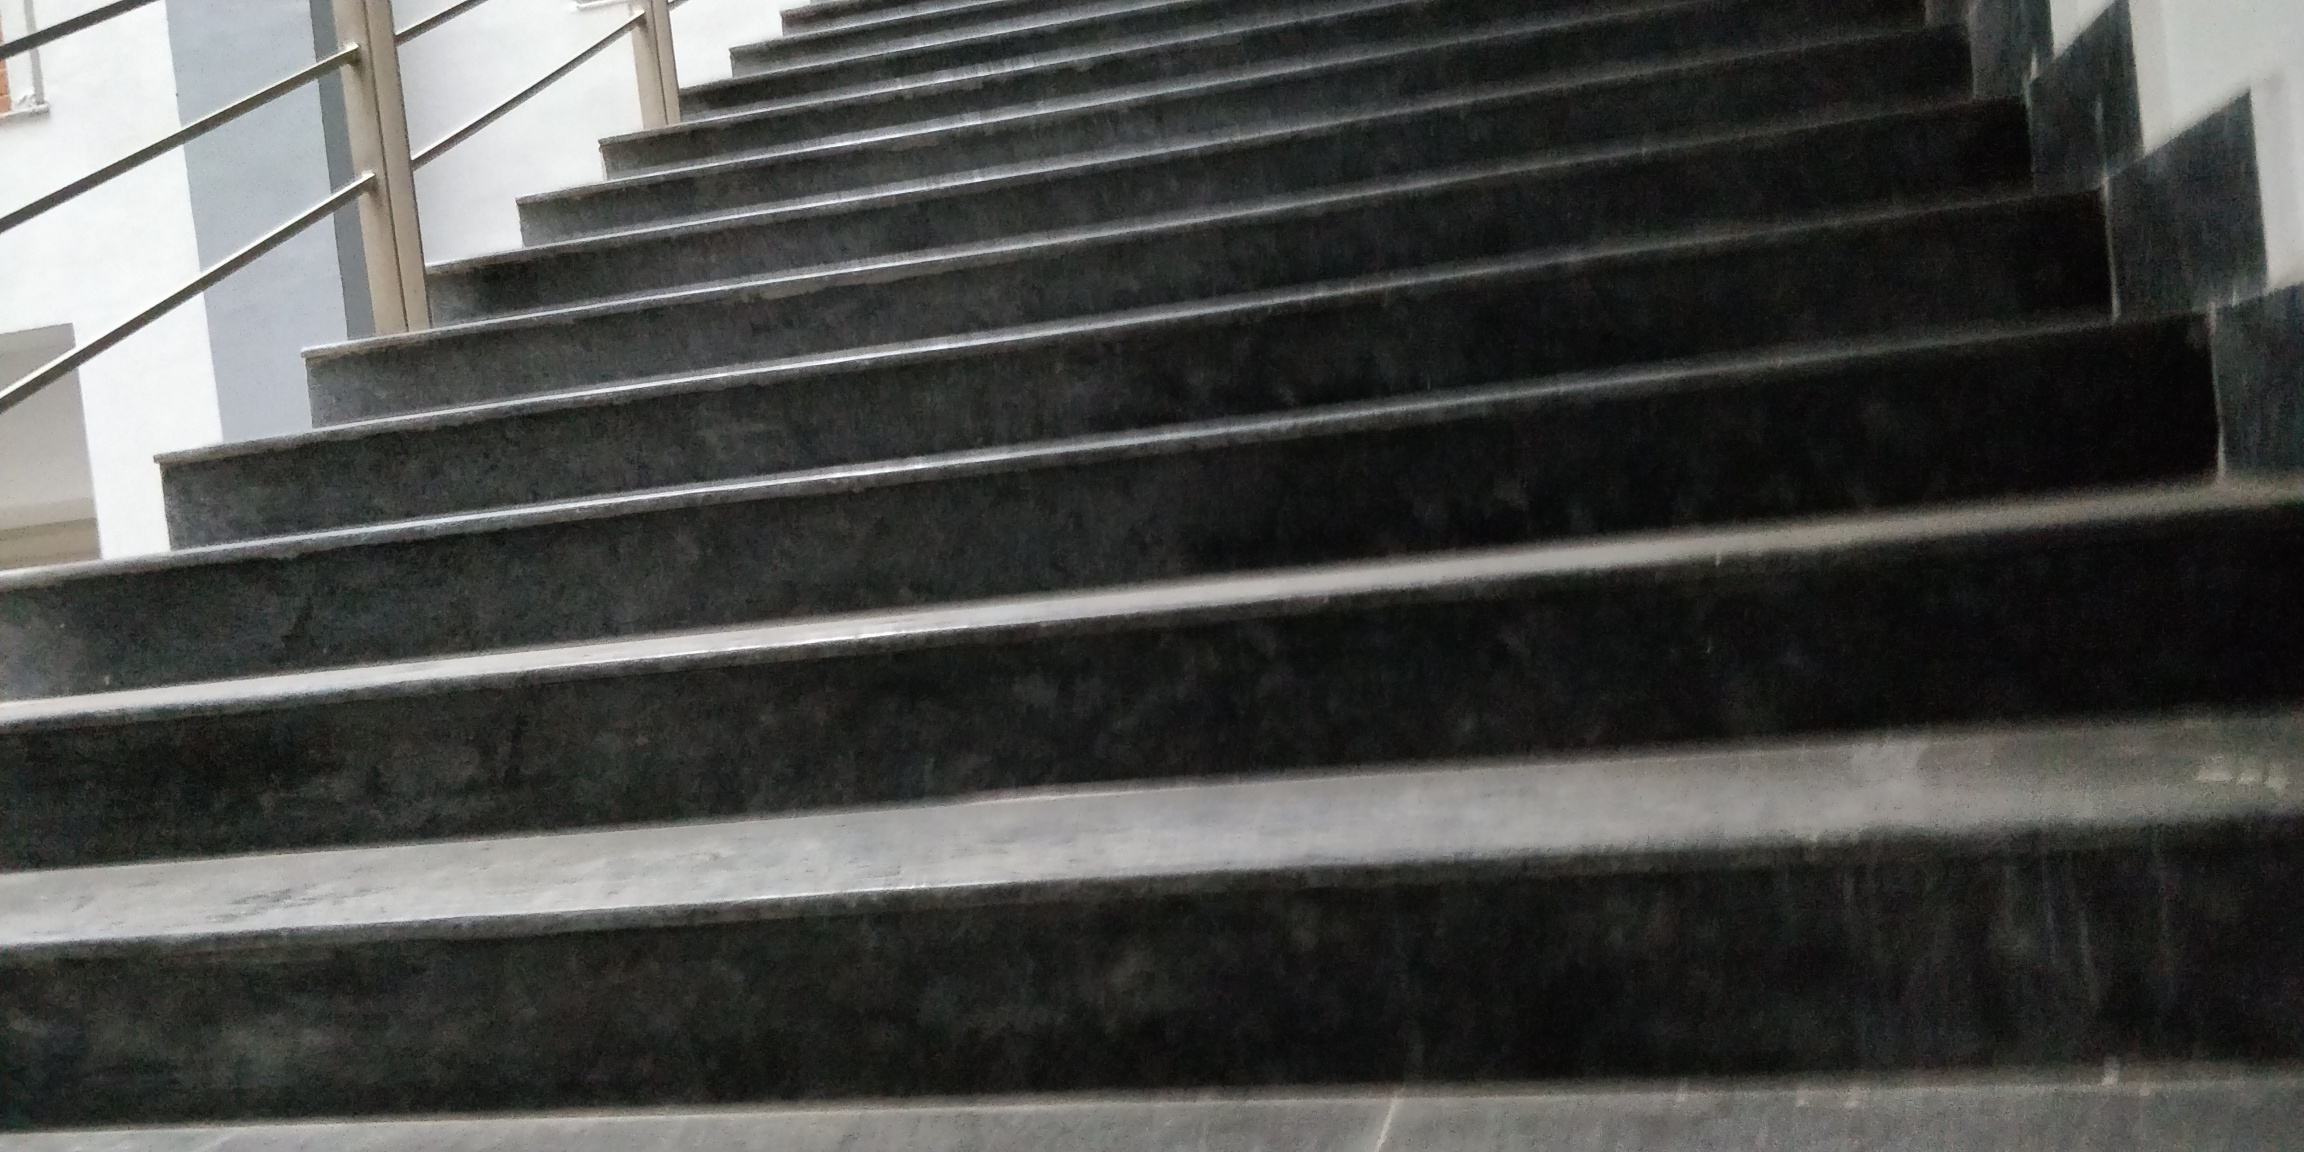stairs_up: (21, 6, 2297, 1152)
